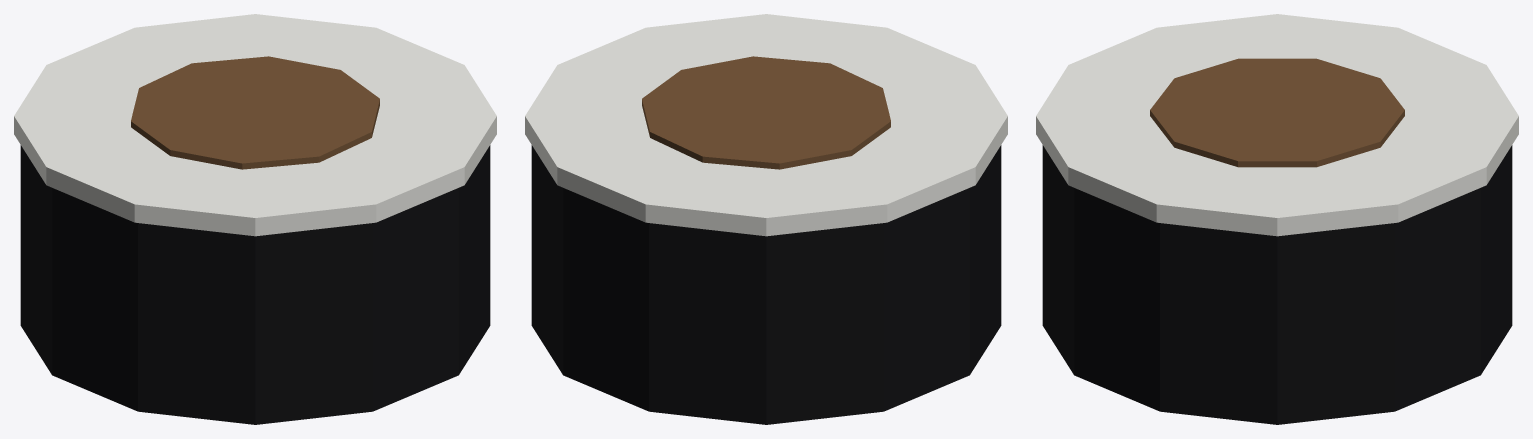
Rendered from Llanta de pista.fbx.
3 views of the same model, side by side, from view 1: azimuth 30°, elevation 25°; view 2: azimuth 150°, elevation 25°; view 3: azimuth 270°, elevation 25° (orthographic).
Parts seen in each view (by area): view 1: Llanta de pista; view 2: Llanta de pista; view 3: Llanta de pista.
Boxes of the visible parts, x1,y1,x2,y2 form: Llanta de pista: (14,14,496,424); Llanta de pista: (525,14,1007,424); Llanta de pista: (1036,14,1518,424).
Size of the model in its own units: 0.72 by 0.355 by 0.72.
